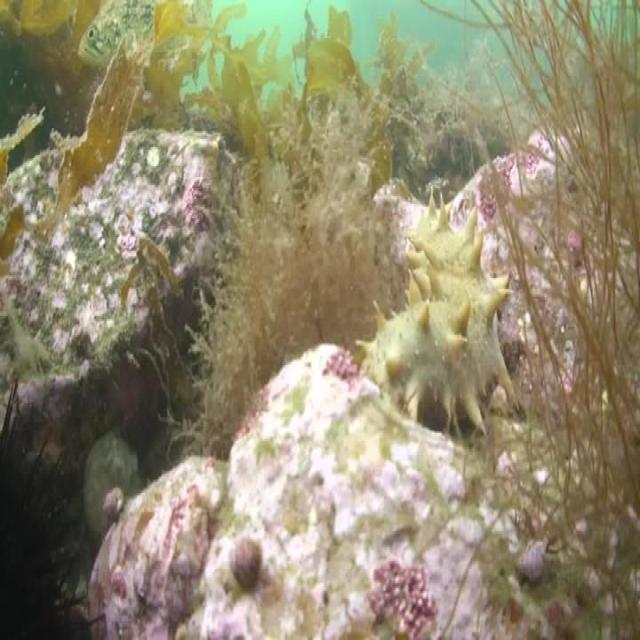holothurian: (354, 198, 517, 455)
